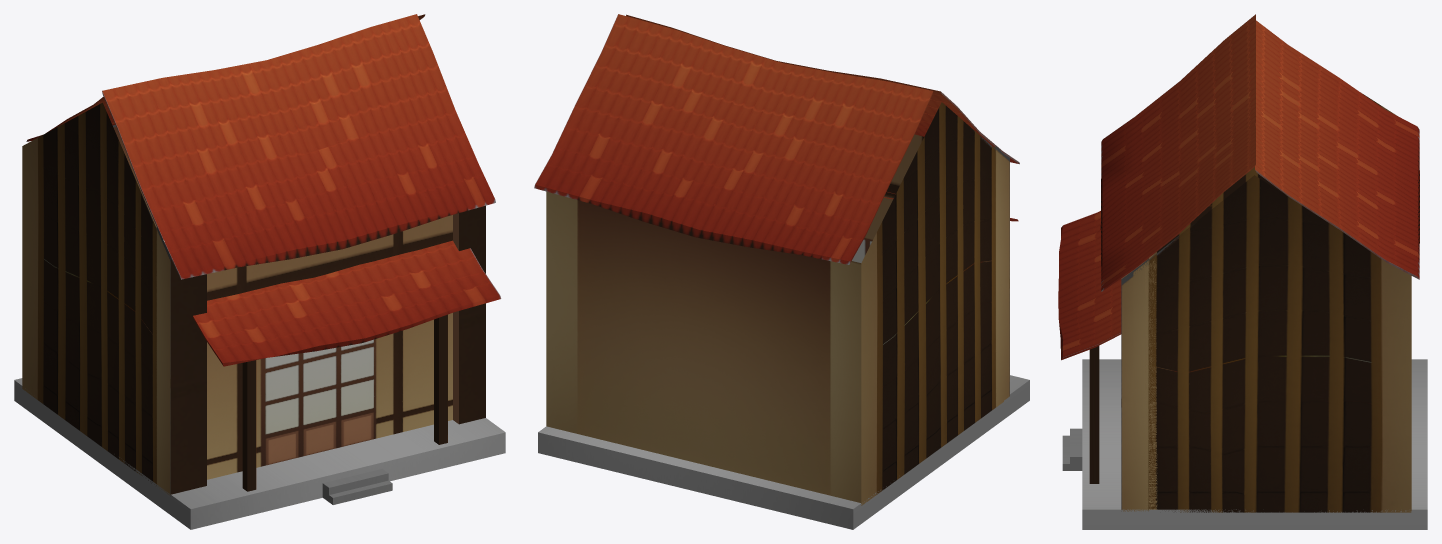
The model's file is miCasaLP3.fbx.
3 views of the same model, side by side, from view 1: azimuth 30°, elevation 25°; view 2: azimuth 150°, elevation 25°; view 3: azimuth 270°, elevation 25° (orthographic). The views are drawn at different scales.
Visible parts, largest first — view 1: listonesIzquierda; view 2: listonesIzquierda; view 3: listonesIzquierda.
Boxes of the visible parts, left/top/right/bottom form: listonesIzquierda: left=14, top=14, right=505, bottom=529; listonesIzquierda: left=534, top=14, right=1029, bottom=529; listonesIzquierda: left=1058, top=14, right=1427, bottom=529.
Size of the model in its own units: 103 by 113 by 104.
Materials: 1 (1 with a texture image).
